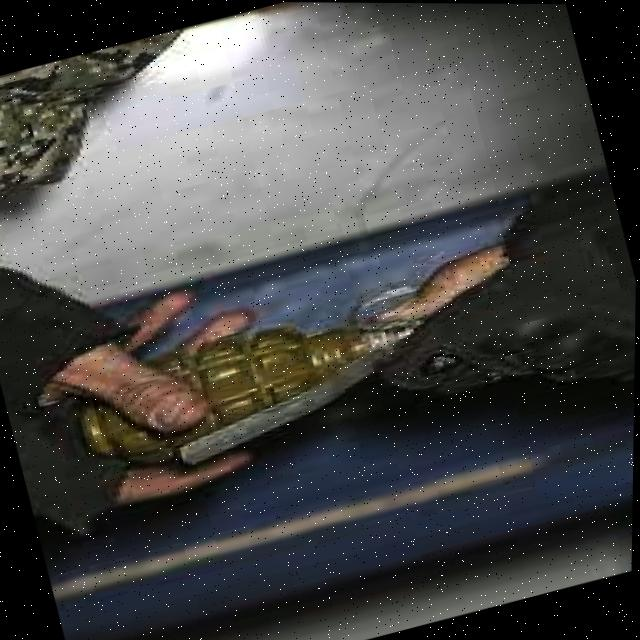grenade: (53, 268, 479, 494)
